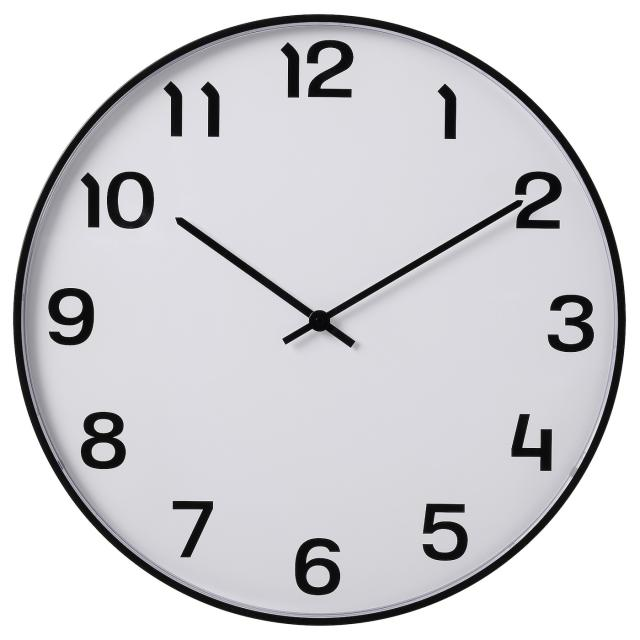clock: (48, 59, 615, 640)
